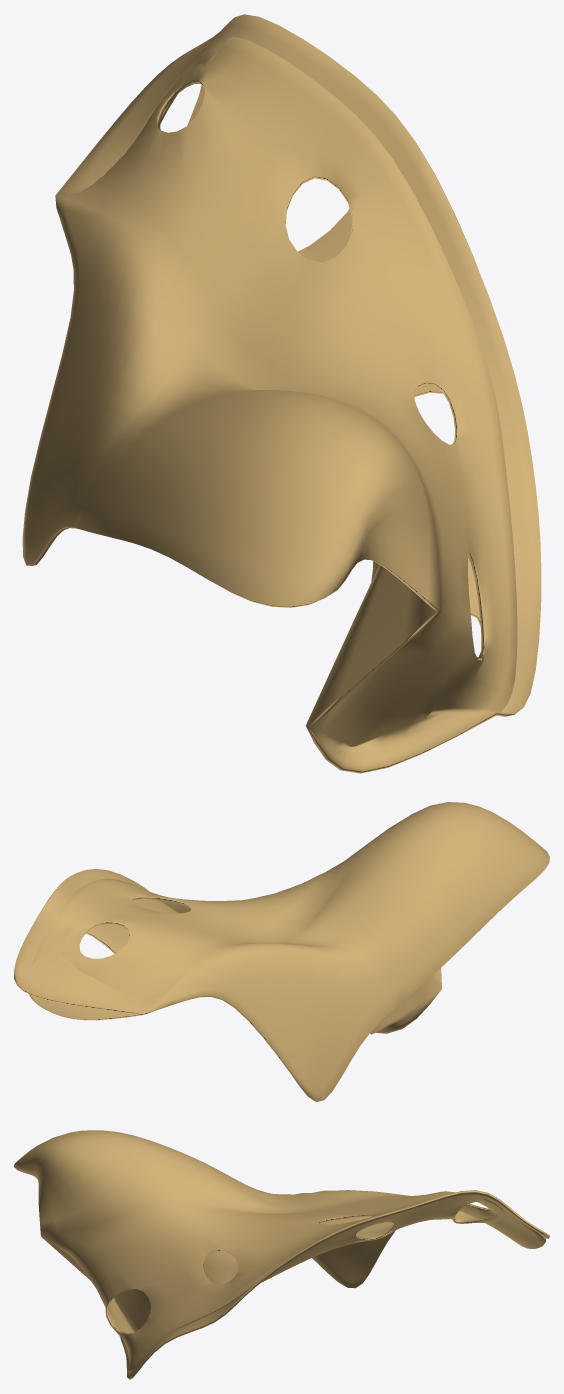
3 views of the same model, one above another, from view 1: azimuth 30°, elevation 25°; view 2: azimuth 150°, elevation 25°; view 3: azimuth 270°, elevation 25° (orthographic). The views are drawn at different scales.
Visible parts, largest first — view 1: 右侧骶髂后韧带; view 2: 右侧骶髂后韧带; view 3: 右侧骶髂后韧带.
Boxes of the visible parts, x1,y1,x2,y2 form: 右侧骶髂后韧带: (22, 14, 541, 773); 右侧骶髂后韧带: (14, 802, 549, 1101); 右侧骶髂后韧带: (14, 1130, 549, 1379).
Size of the model in its own units: 0.0752 by 0.064 by 0.1402.
